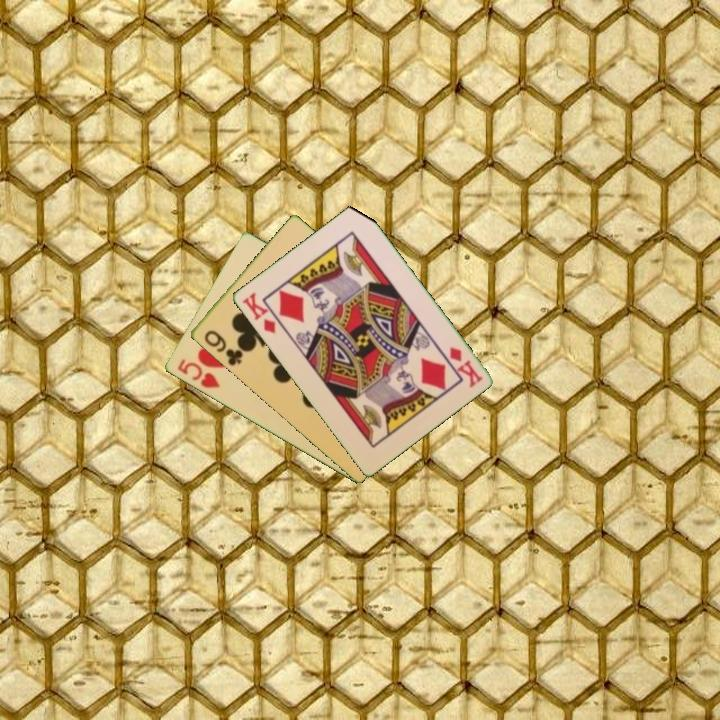5h: (173, 356, 223, 391)
9c: (200, 326, 245, 369)
Kd: (238, 289, 278, 337), (445, 343, 485, 390)
